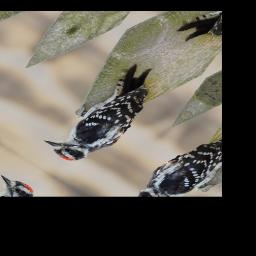Woodpecker: (37, 61, 185, 172)
